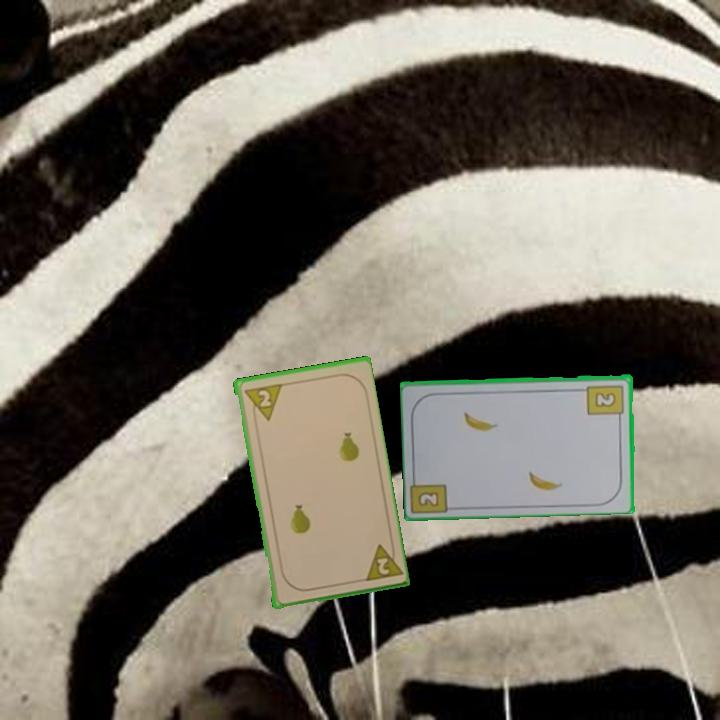2b: (584, 381, 627, 423), (414, 488, 442, 509)
2p: (359, 538, 403, 584), (240, 380, 283, 425)
